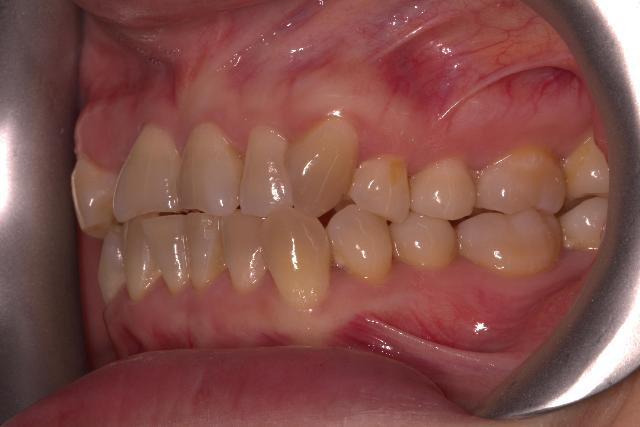canine class II 1/4: (260, 114, 392, 312)
molar class I: (454, 128, 568, 278)
